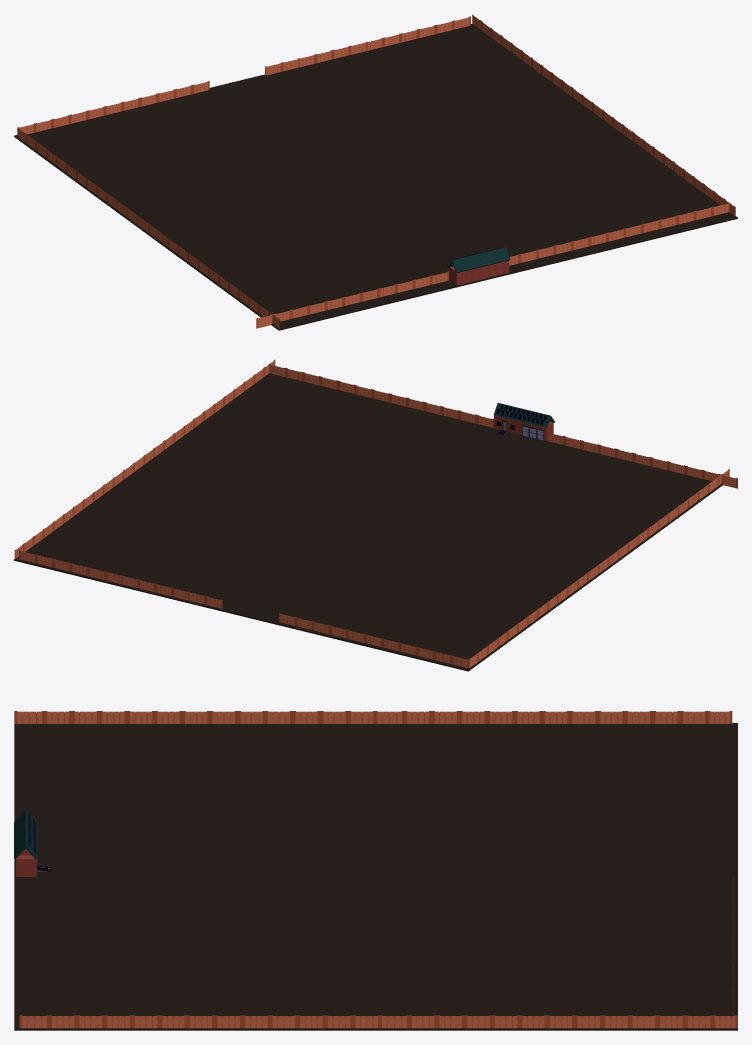
Rendered from testing.glb.
3 views of the same model, one above another, from view 1: azimuth 30°, elevation 25°; view 2: azimuth 150°, elevation 25°; view 3: azimuth 270°, elevation 25° (orthographic). The views are drawn at different scales.
Parts seen in each view (by area): view 1: mergedBlocks(Clone); view 2: mergedBlocks(Clone); view 3: mergedBlocks(Clone).
Part boxes in pixels (x1,y1,x2,y2): mergedBlocks(Clone): (14,14,737,330); mergedBlocks(Clone): (14,359,737,671); mergedBlocks(Clone): (14,711,737,1030).
Bounding box in the file's own units: 103 × 5.12 × 100.
10 materials, 5 textured.
